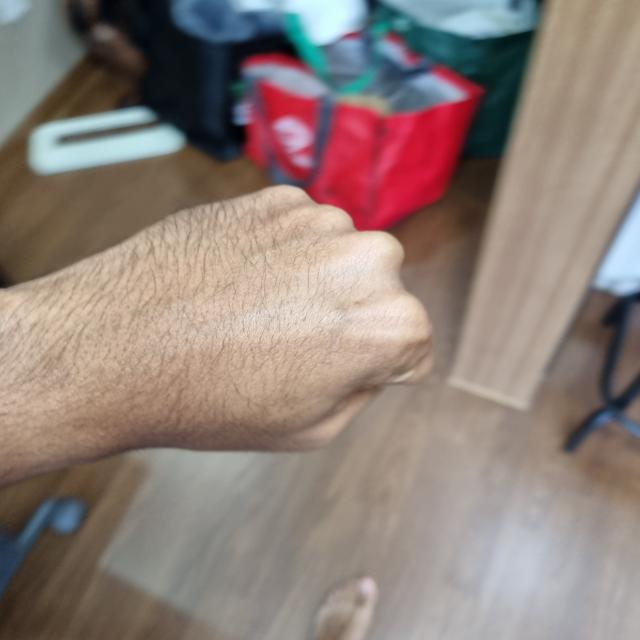Rock: (7, 185, 427, 460)
